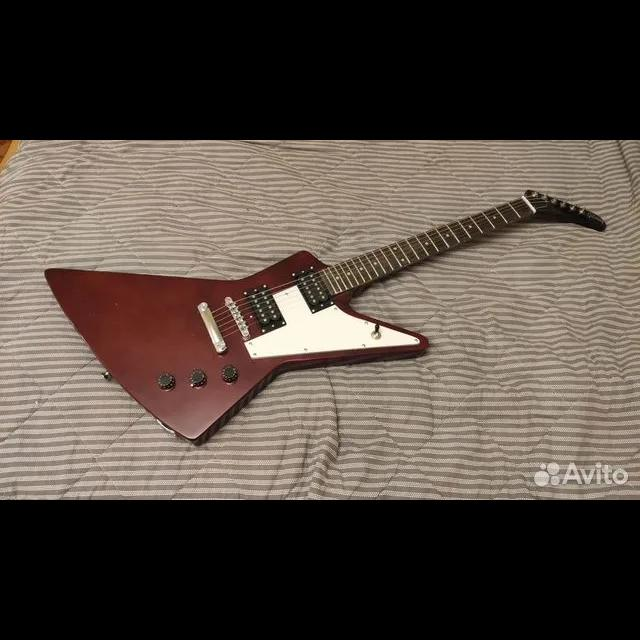Electric-Guitar: (46, 188, 606, 444)
